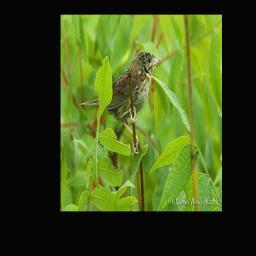Sparrow: (76, 50, 160, 157)
